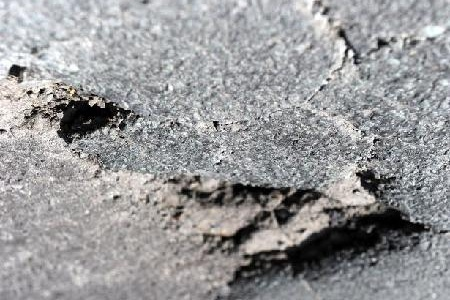pothole: (129, 161, 432, 298), (0, 65, 138, 151)
